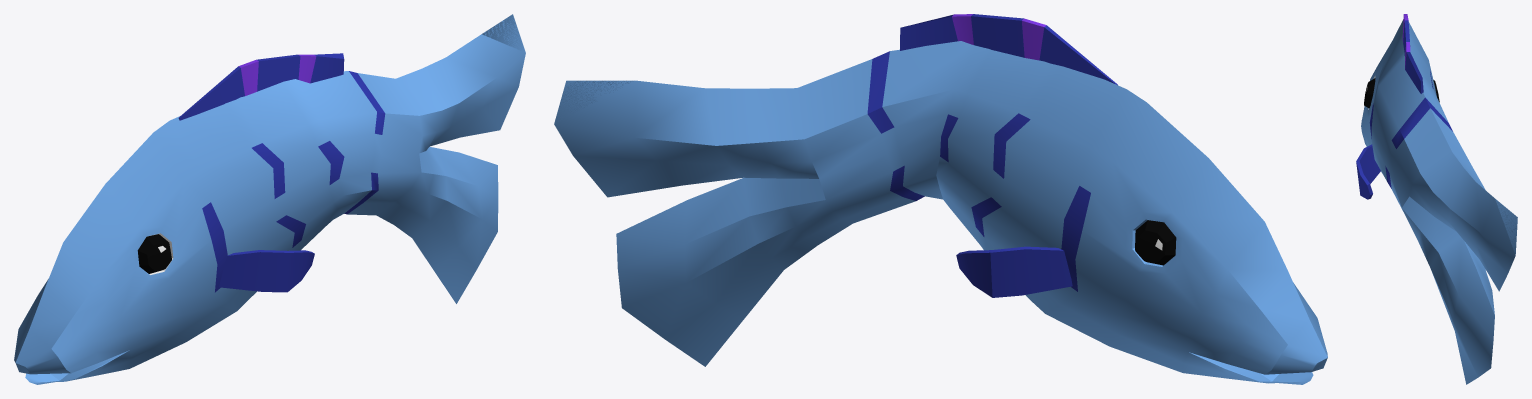
Rendered from fish.fbx.
The picture shows the model from 3 angles, left to right: view 1: azimuth 30°, elevation 25°; view 2: azimuth 150°, elevation 25°; view 3: azimuth 270°, elevation 25°; orthographic projection. The views are drawn at different scales.
Visible parts, largest first — view 1: Fish; view 2: Fish; view 3: Fish.
Part boxes in pixels (left/top/right/bottom): Fish: left=14, top=14, right=525, bottom=384; Fish: left=554, top=14, right=1327, bottom=384; Fish: left=1356, top=14, right=1517, bottom=384.
Size of the model in its own units: 106 by 56.52 by 30.66.
